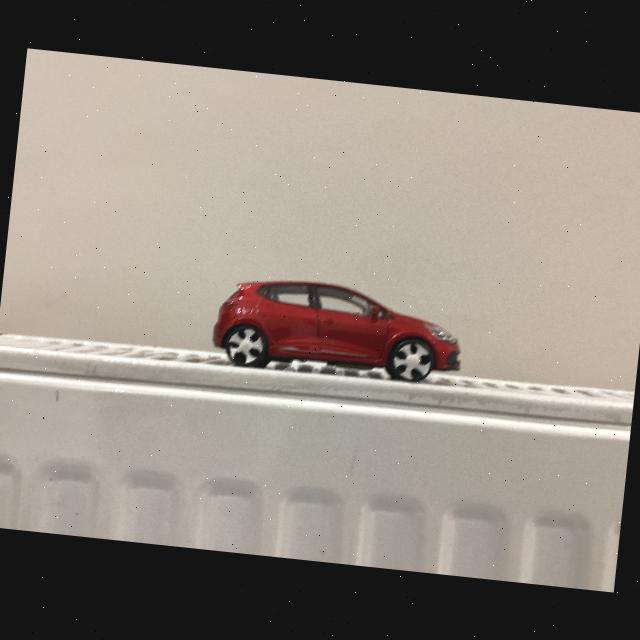Yanlis_Jant: (389, 340, 433, 382), (224, 326, 266, 366)
